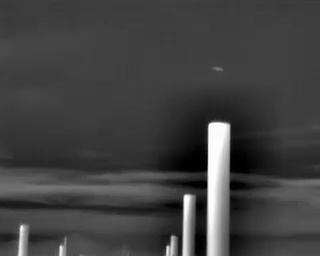BIRD: (210, 63, 226, 76)
